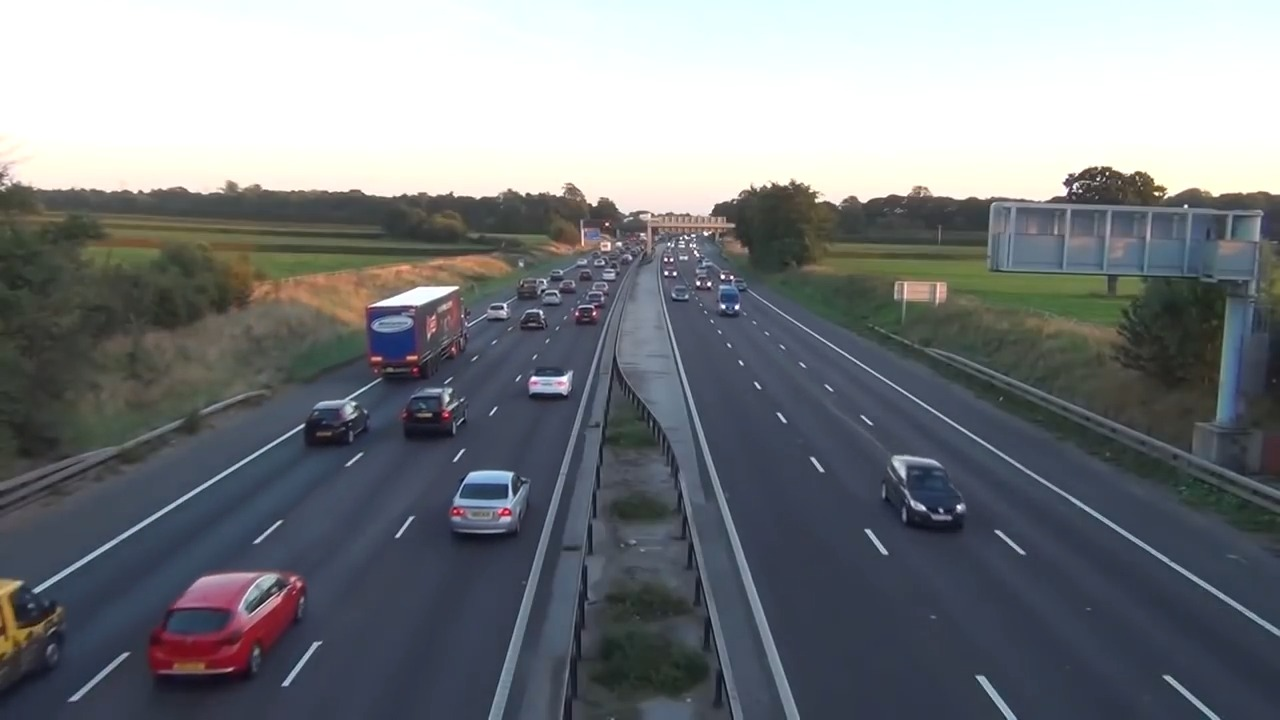truck: (360, 285, 470, 375)
